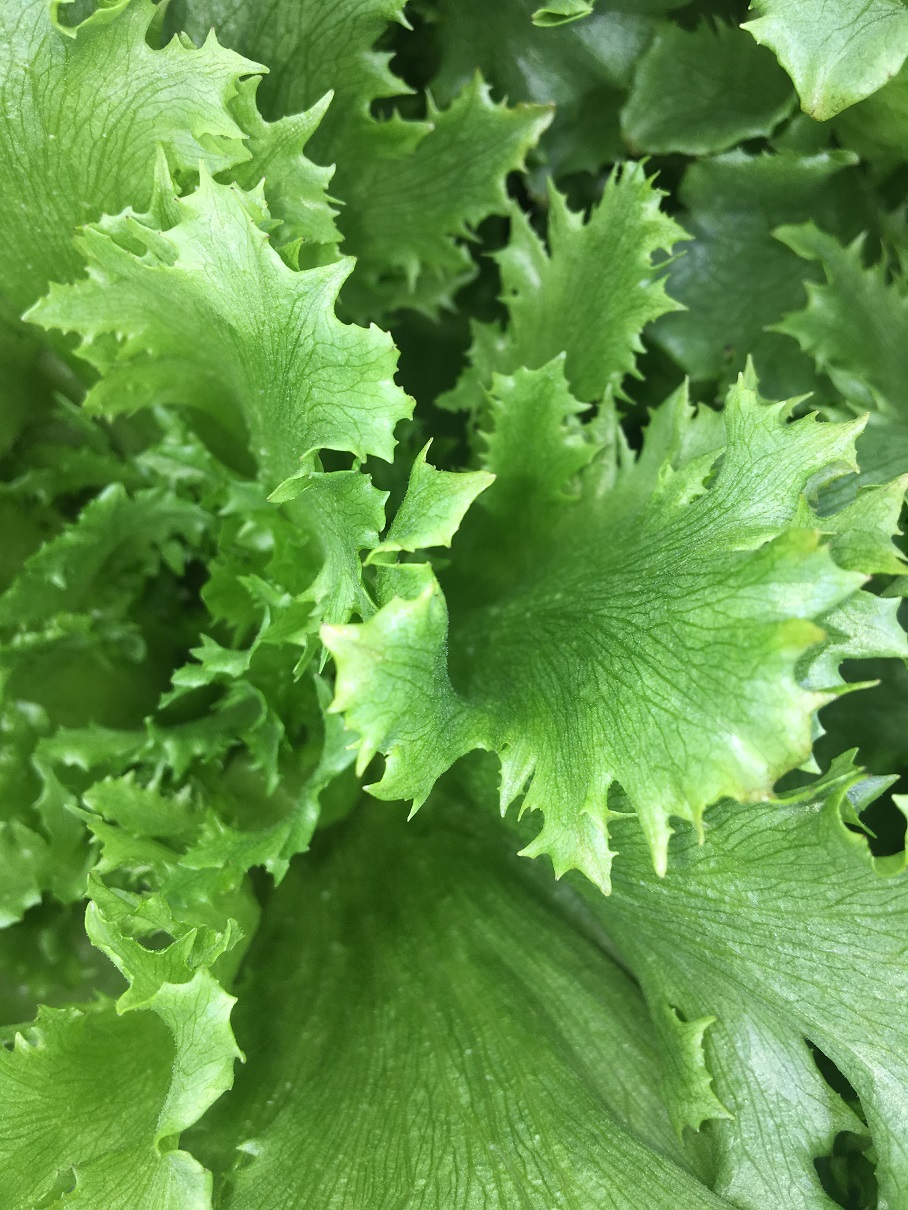tipburn: (725, 737, 825, 816), (529, 79, 575, 130), (210, 165, 258, 210), (795, 85, 835, 135), (708, 329, 750, 370), (616, 124, 654, 165), (879, 55, 904, 87)
